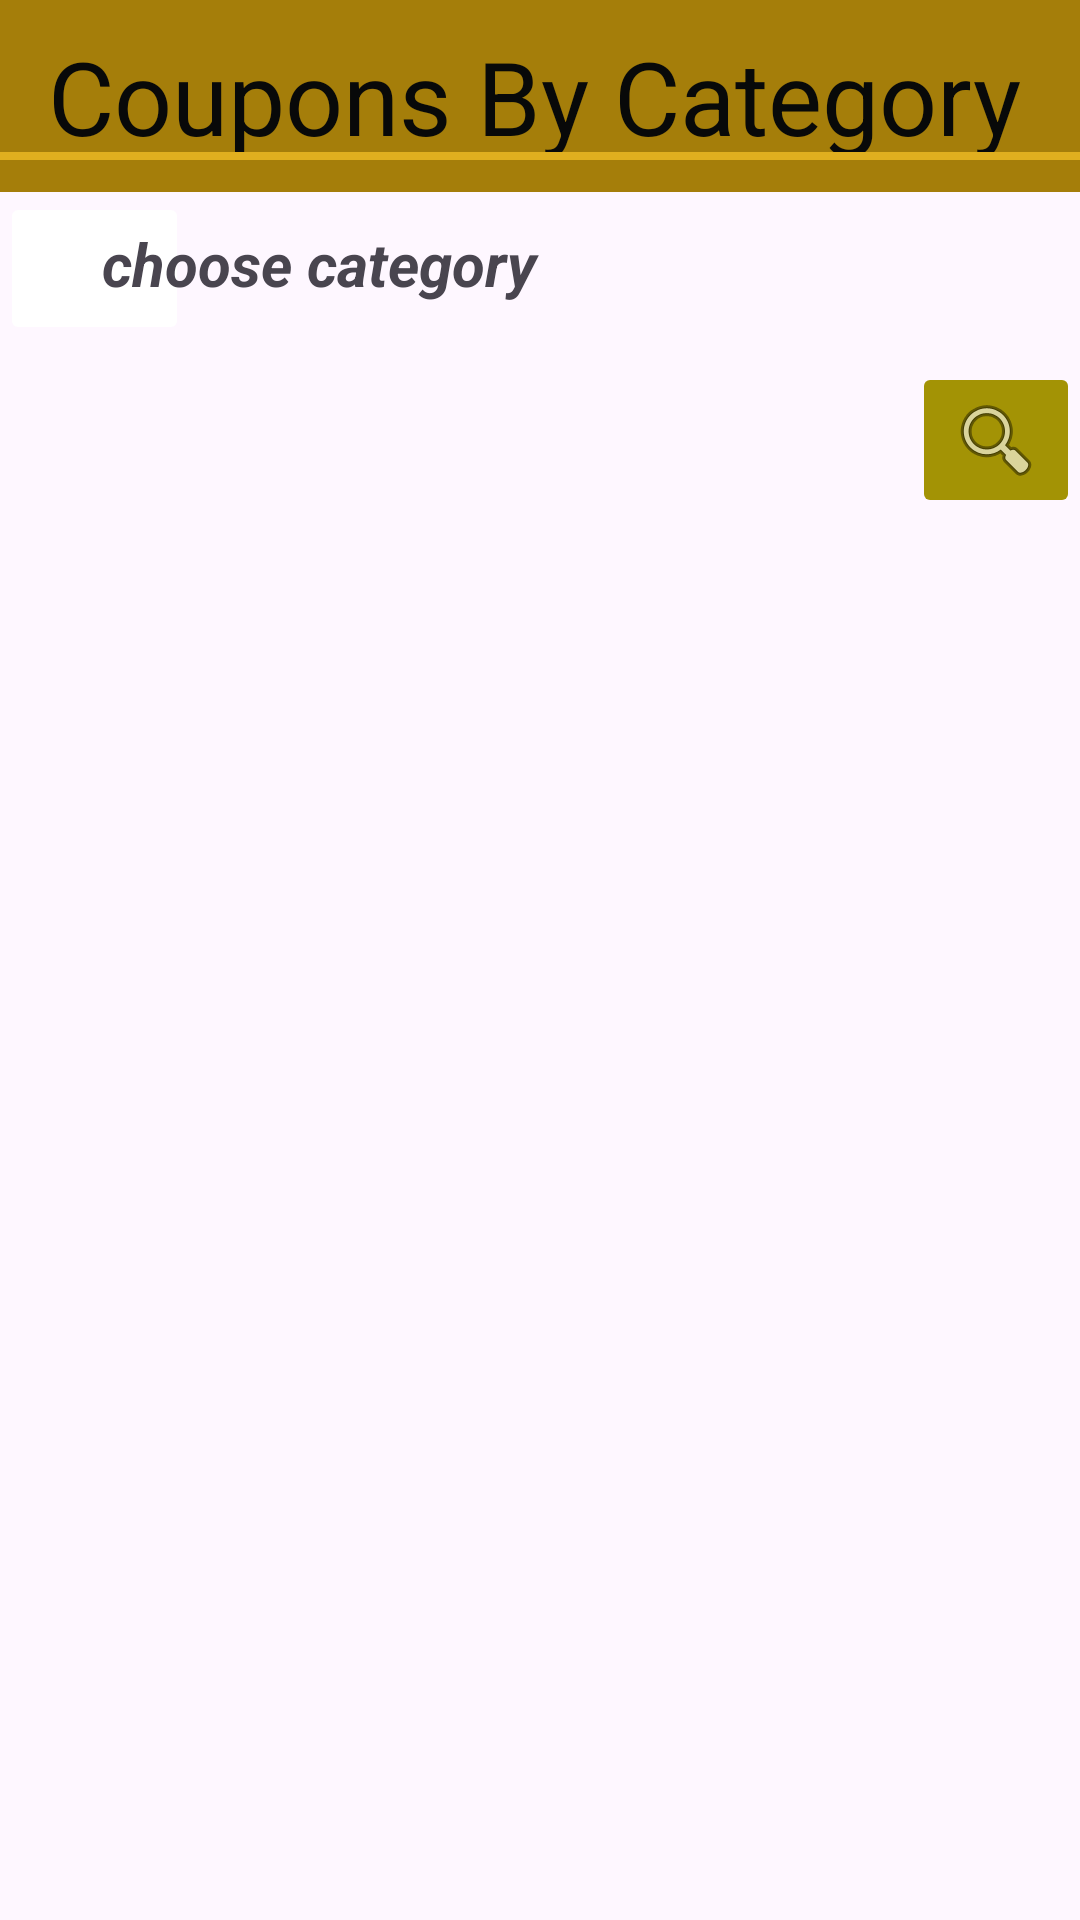

Named icons in this screenshot (1080*1920) and their centers, (x=x, y=y):
search: (x=996, y=440)
